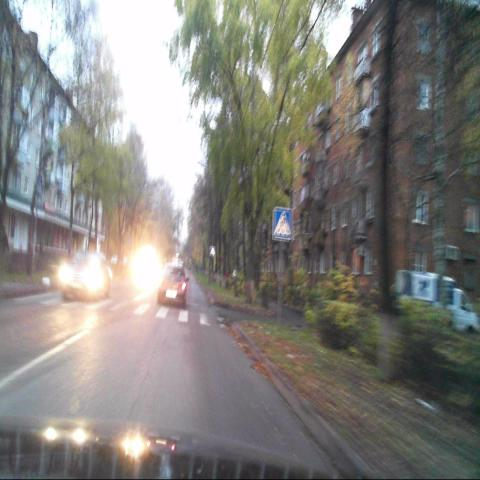5_19_1: (274, 207, 292, 239)
5_20: (210, 245, 216, 256)
